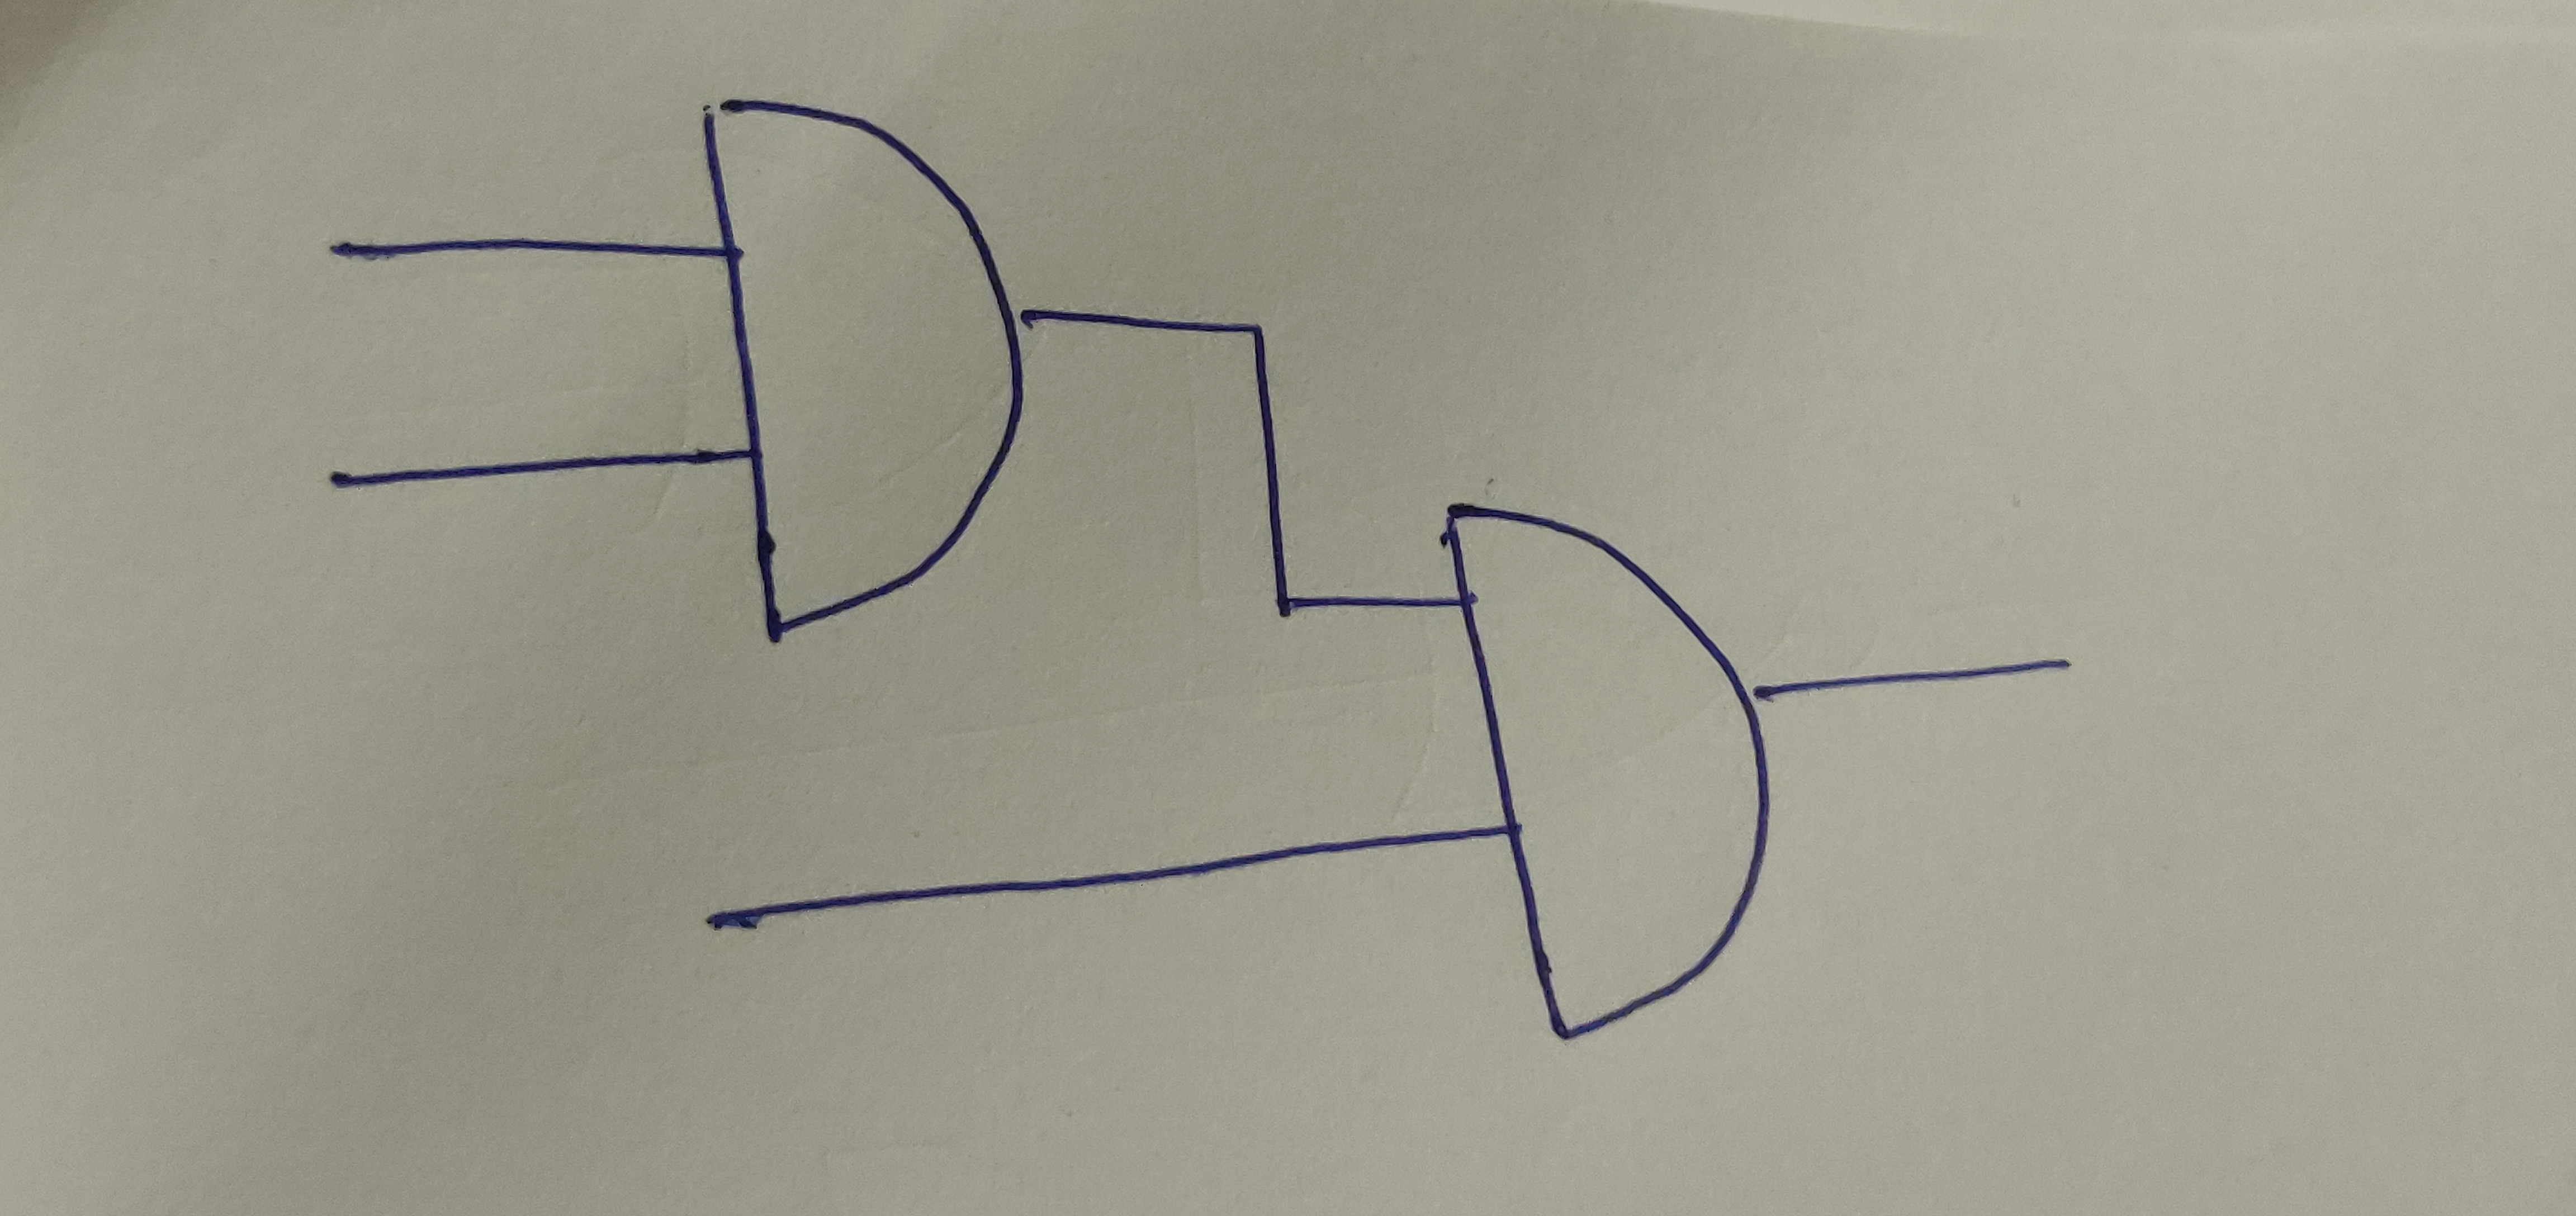and: (1439, 504, 1778, 1043), (697, 94, 1028, 638)
